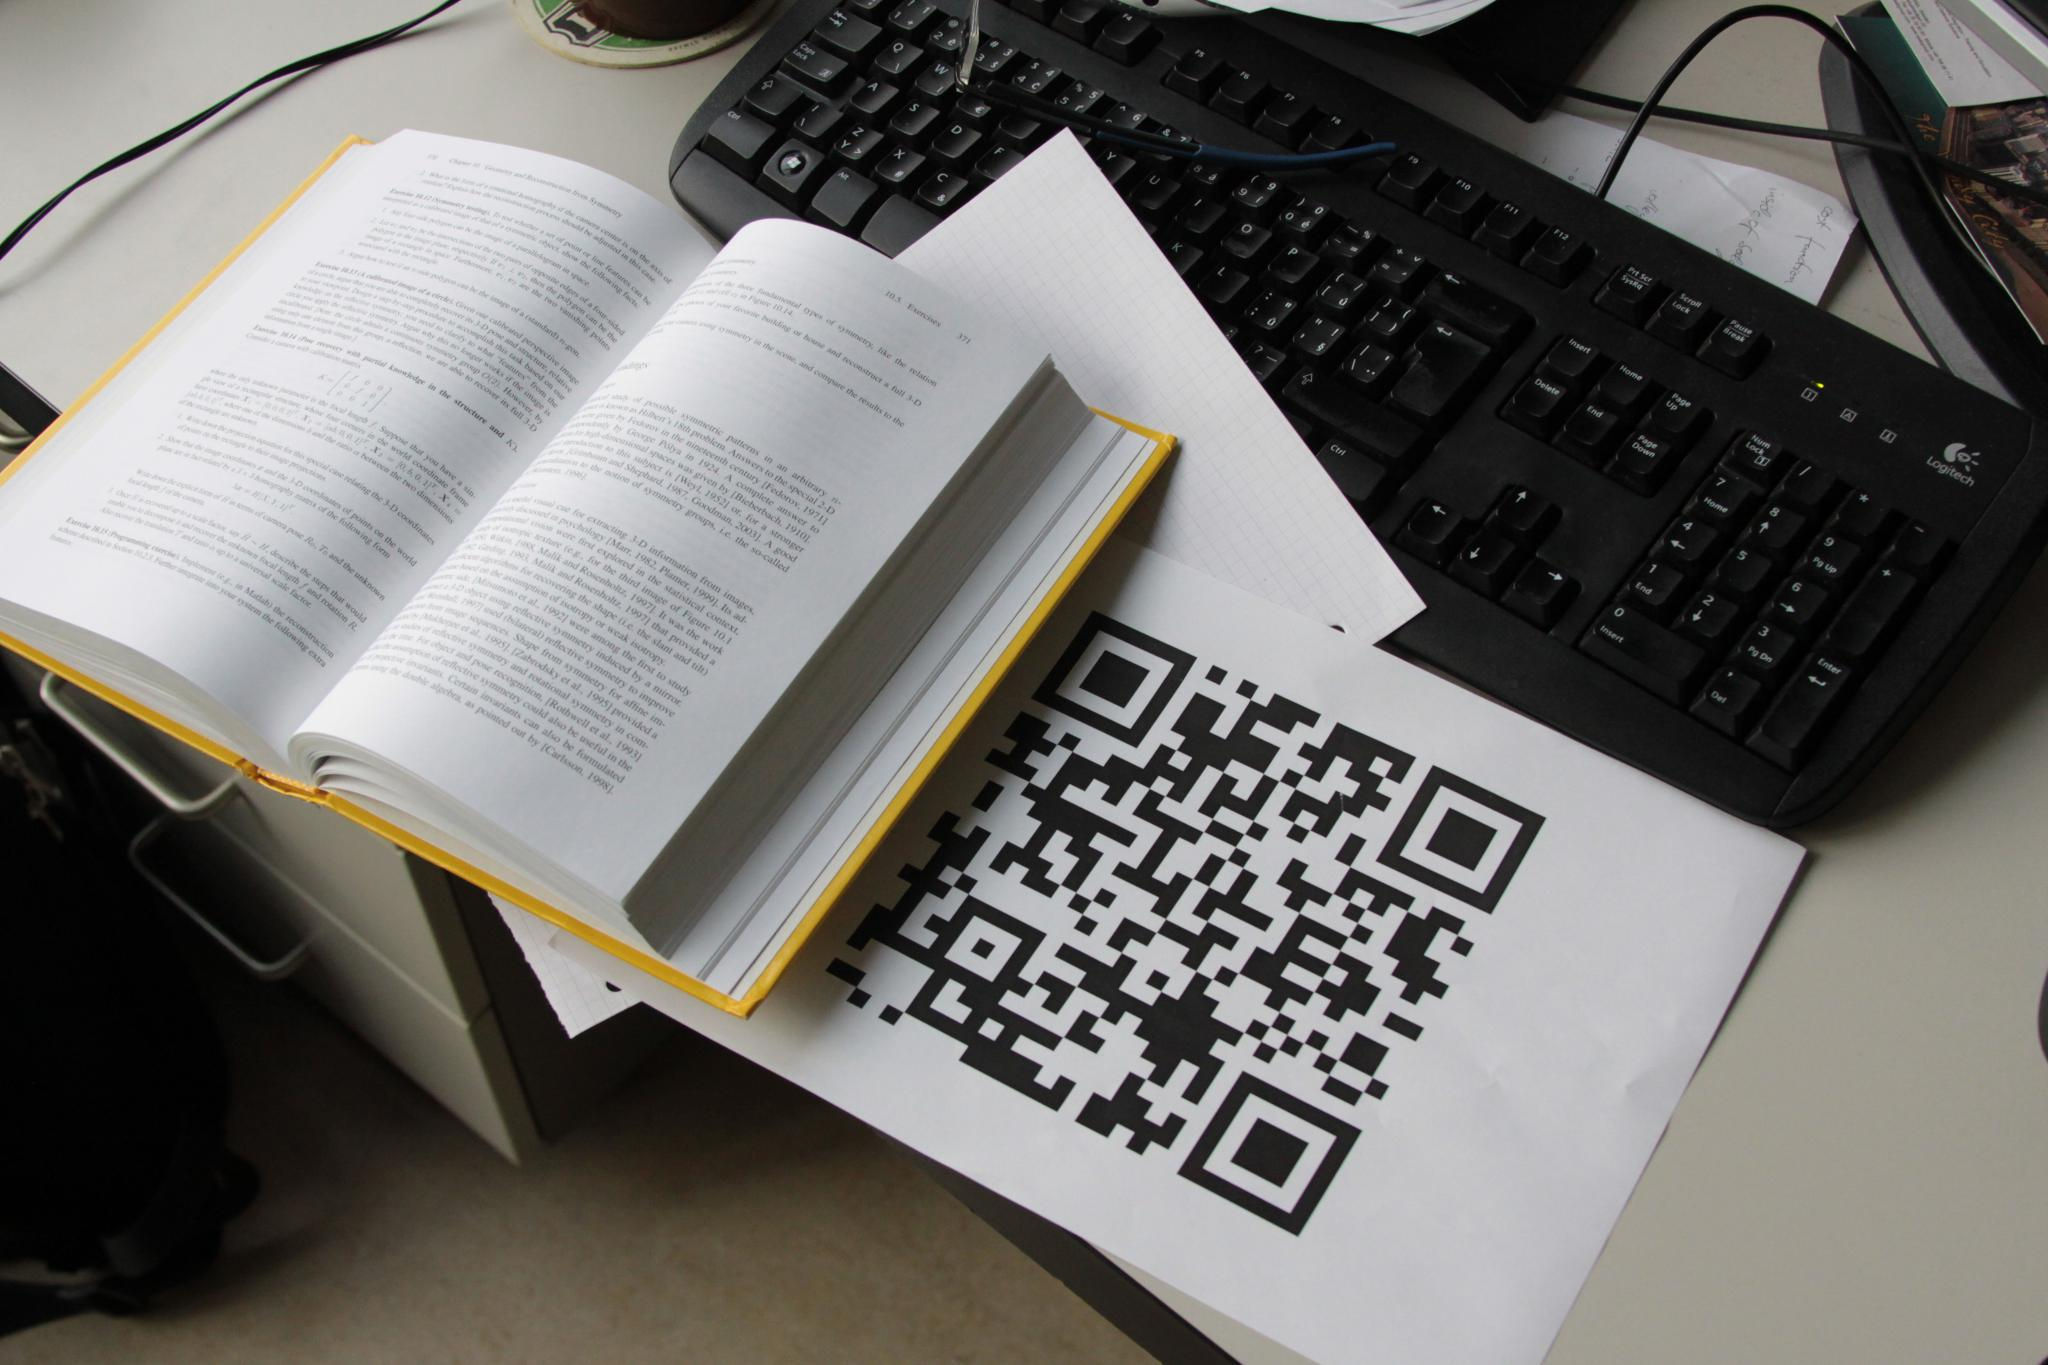Finder pattern: (1176, 1062, 1367, 1232), (1380, 759, 1552, 919), (1032, 608, 1195, 743)
